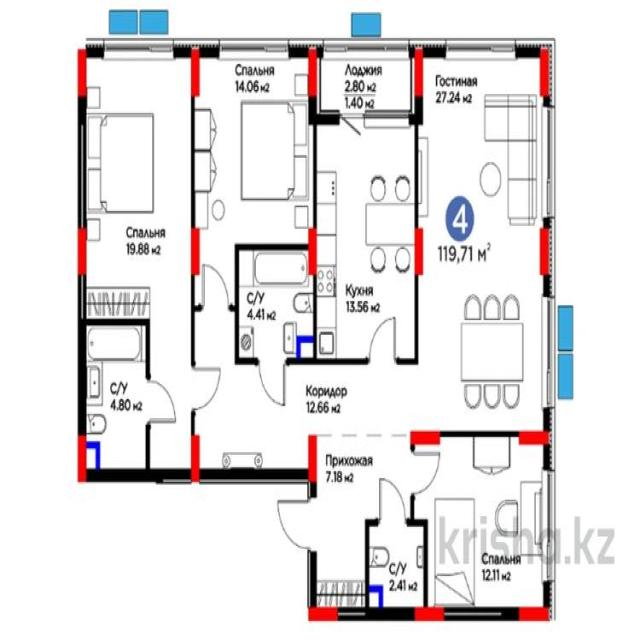balcony: (316, 47, 416, 110)
bathroom: (87, 55, 189, 314), (86, 329, 146, 469), (239, 253, 315, 358), (368, 525, 424, 613)
hallway: (212, 365, 411, 434), (316, 438, 366, 587)
kitchen: (317, 122, 415, 358)
living_room: (421, 52, 549, 431), (199, 57, 309, 248), (427, 440, 546, 610)
